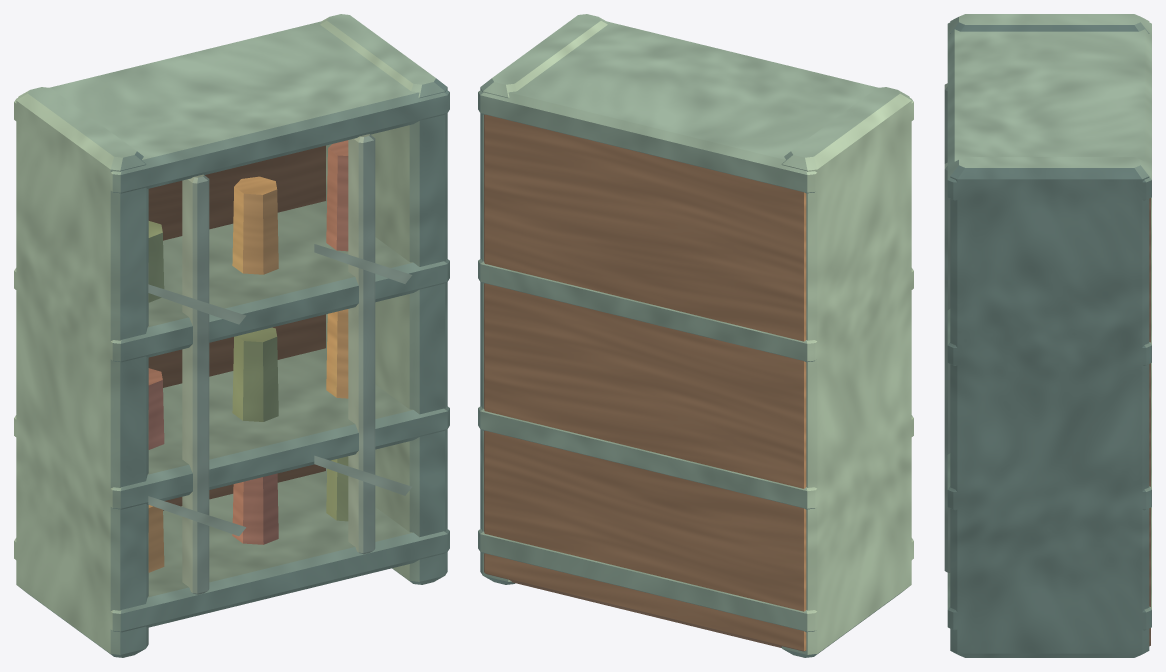
The model's file is furniture_display.glb.
The picture shows the model from 3 angles, left to right: view 1: azimuth 30°, elevation 25°; view 2: azimuth 150°, elevation 25°; view 3: azimuth 270°, elevation 25°; orthographic projection. The views are drawn at different scales.
Parts seen in each view (by area): view 1: Glasvitrine; view 2: Glasvitrine; view 3: Glasvitrine.
Part boxes in pixels (<box>): Glasvitrine: <box>14,14,449,657</box>; Glasvitrine: <box>478,14,913,657</box>; Glasvitrine: <box>944,14,1151,657</box>.
Size of the model in its own units: 1.15 by 1.63 by 0.633.
3 materials, 3 textured.
